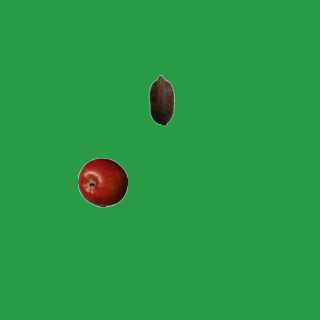Apple Braeburn: (77, 157, 127, 207)
Nut Pecan: (136, 74, 186, 124)
